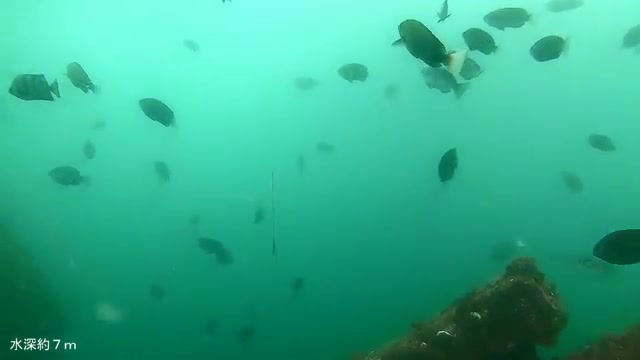smallfish: (521, 31, 589, 70), (8, 70, 72, 110), (134, 94, 194, 132), (420, 143, 468, 189), (59, 56, 107, 100), (477, 4, 536, 31), (329, 57, 384, 84), (460, 25, 505, 56)
